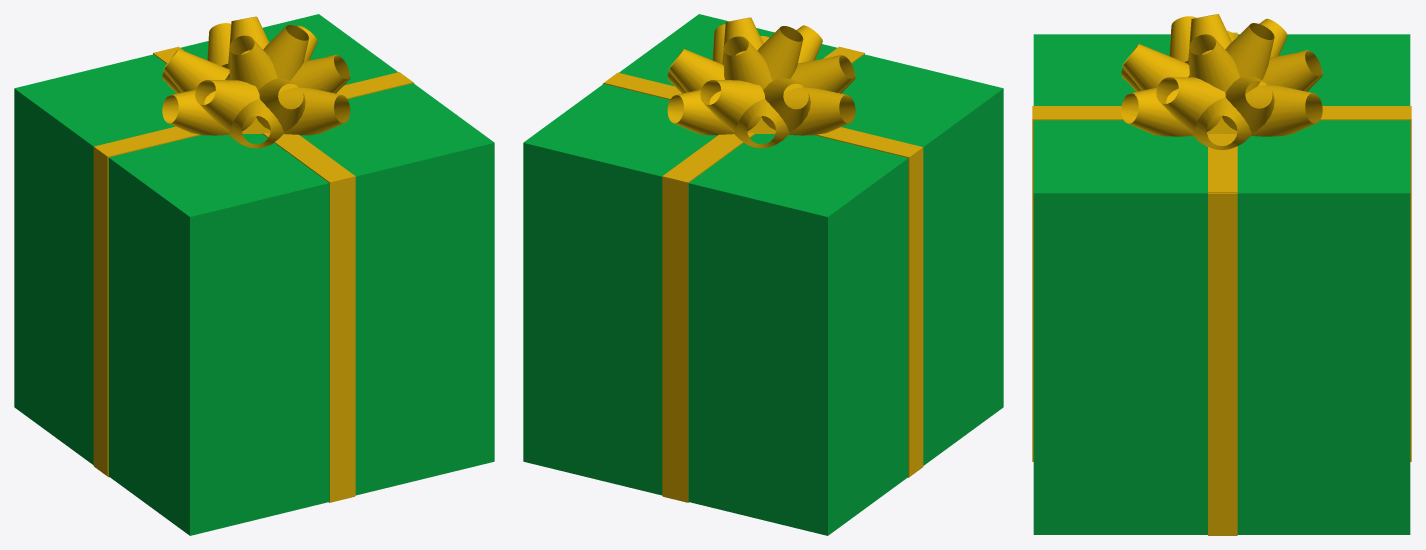
The model's file is Present_2.fbx.
The picture shows the model from 3 angles, left to right: view 1: azimuth 30°, elevation 25°; view 2: azimuth 150°, elevation 25°; view 3: azimuth 270°, elevation 25°; orthographic projection. The views are drawn at different scales.
Visible parts, largest first — view 1: Present_2; view 2: Present_2; view 3: Present_2.
Boxes of the visible parts, box(x1,y1,x2,y2) form: Present_2: box(14, 14, 494, 535); Present_2: box(523, 14, 1003, 535); Present_2: box(1032, 14, 1411, 535).
Size of the model in its own units: 47.98 by 60.72 by 47.98.
